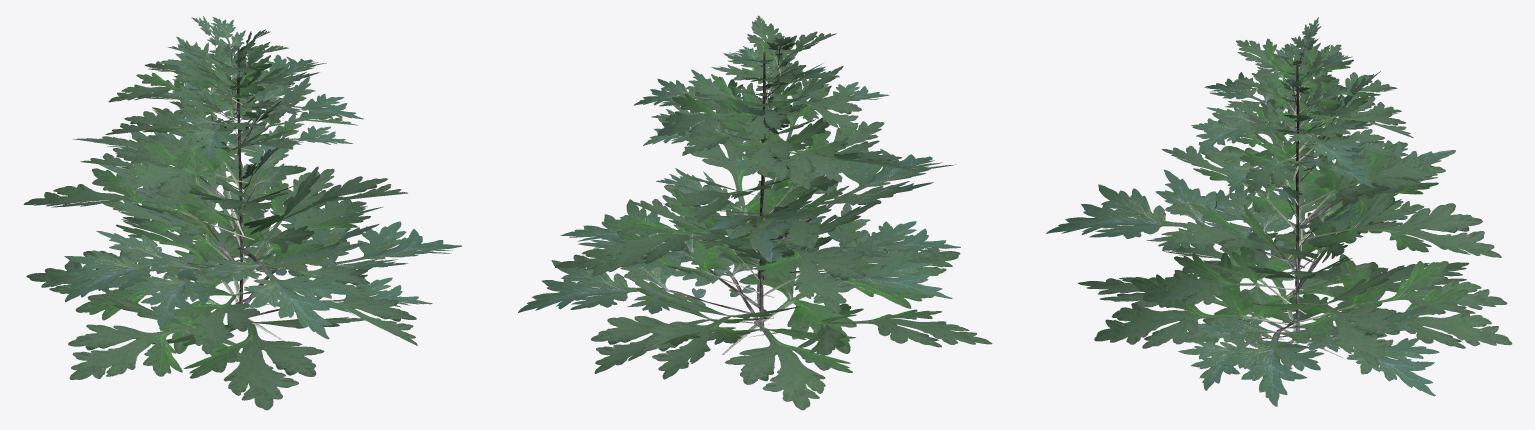
The model's file is Korean Mugwort_Type 06.fbx.
3 renders of one model, left to right at view 1: azimuth 30°, elevation 25°; view 2: azimuth 150°, elevation 25°; view 3: azimuth 270°, elevation 25°, orthographic. The views are drawn at different scales.
Parts seen in each view (by area): view 1: Korean Mugwort_Type 05; view 2: Korean Mugwort_Type 05; view 3: Korean Mugwort_Type 05.
Part boxes in pixels (bbox=[...]): Korean Mugwort_Type 05: bbox=[23, 16, 461, 410]; Korean Mugwort_Type 05: bbox=[518, 15, 992, 410]; Korean Mugwort_Type 05: bbox=[1046, 17, 1512, 406].
Size of the model in its own units: 47.5 by 33.8 by 47.41.
